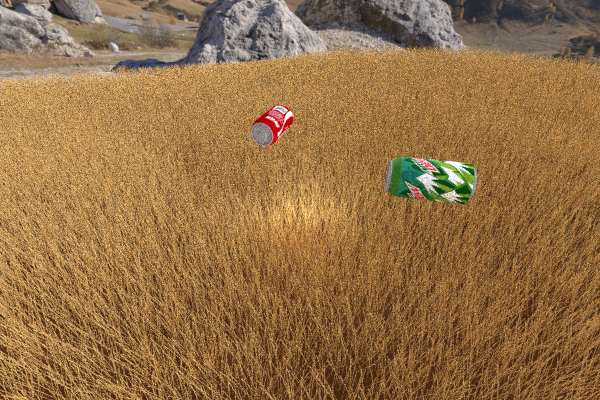bottle: (22, 296, 433, 400)
can: (385, 156, 477, 204), (251, 104, 293, 145)
